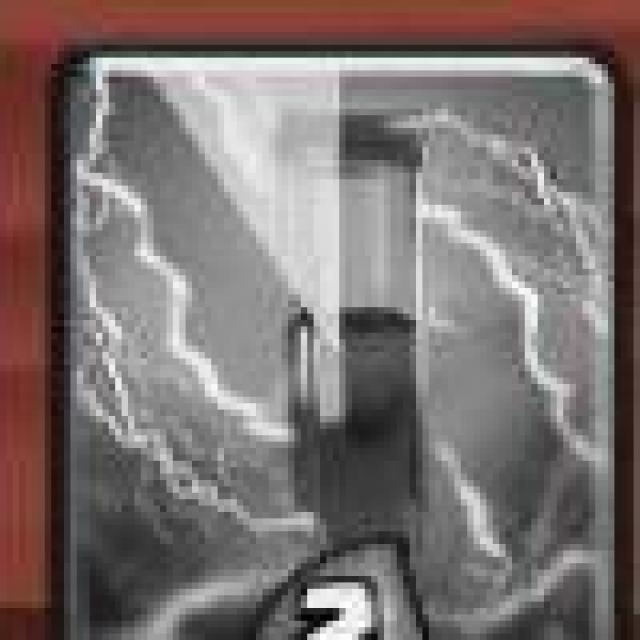Zap: (46, 41, 620, 640)
